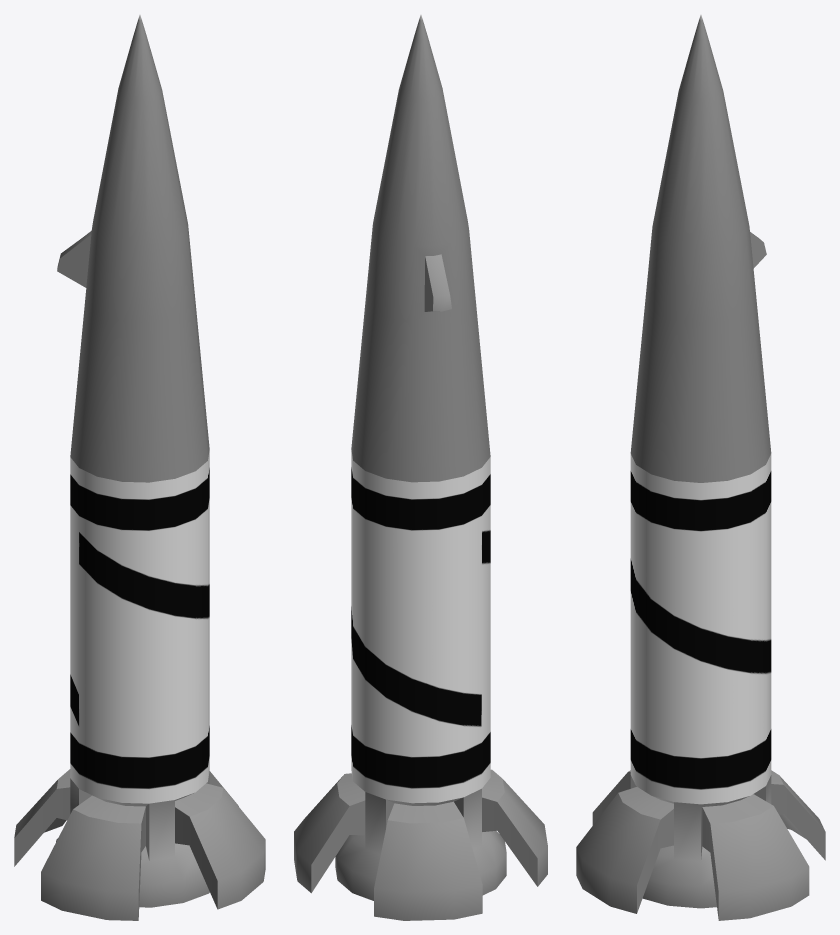
Rendered from Missile_four.fbx.
3 views of the same model, side by side, from view 1: azimuth 30°, elevation 25°; view 2: azimuth 150°, elevation 25°; view 3: azimuth 270°, elevation 25° (orthographic).
Visible parts, largest first — view 1: Cylinder_1, Cylinder; view 2: Cylinder_1, Cylinder; view 3: Cylinder_1, Cylinder.
Part boxes in pixels (box(x1,y1,x2,y2)): Cylinder_1: box(14, 15, 265, 920); Cylinder: box(70, 451, 209, 803); Cylinder_1: box(294, 15, 547, 920); Cylinder: box(351, 450, 490, 803); Cylinder_1: box(576, 15, 825, 920); Cylinder: box(630, 454, 771, 804).
Bounding box in the file's own units: 0.4675 × 1.78 × 0.4675.
